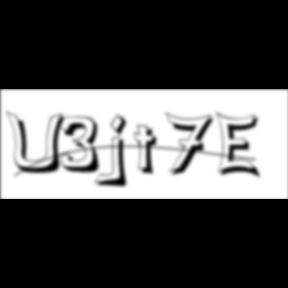3: (61, 116, 107, 176)
7: (165, 111, 220, 179)
E: (216, 110, 264, 182)
U: (6, 110, 70, 176)
j: (108, 113, 134, 191)
t: (135, 124, 166, 179)
